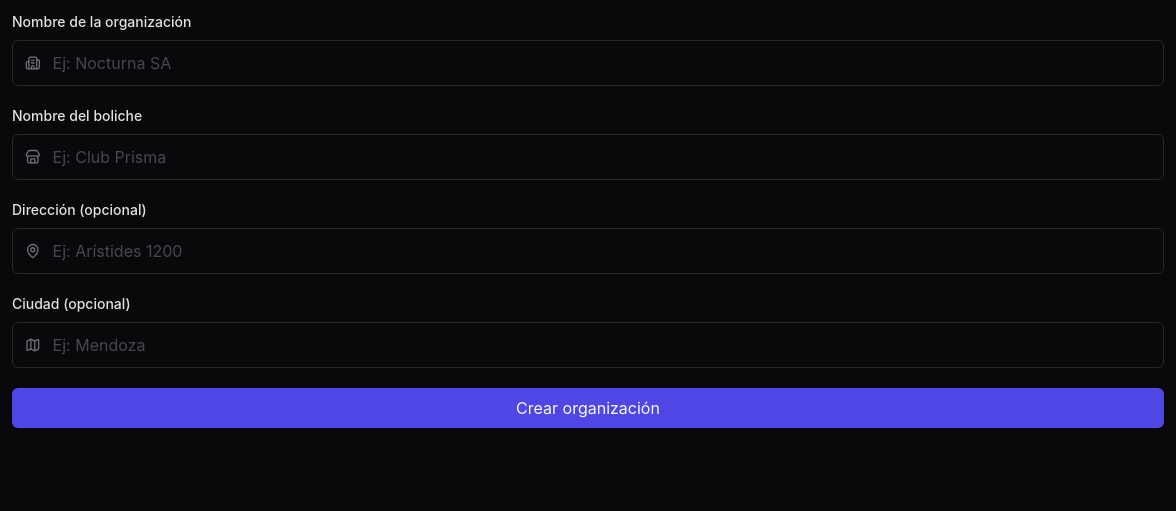
Test: OwnerOnboardingForm › shows the backend error message
Type "Nocturna SA" into the field with placeholder "Ej: Nocturna SA". click: (602, 63)
box: [53,51,1151,75]
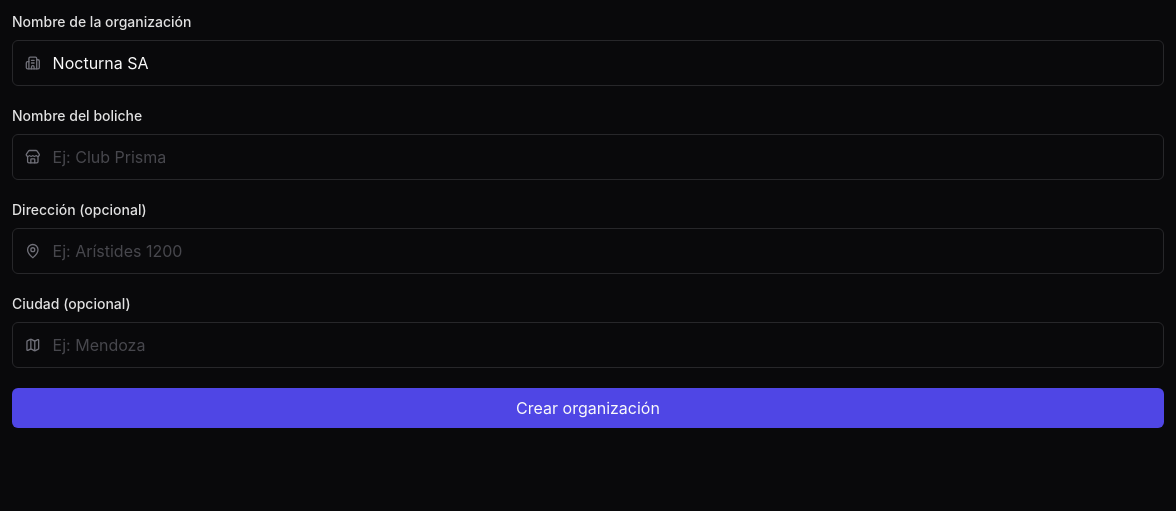
Type "Club Prisma" into the field with placeholder "Ej: Club Prisma". click: (602, 157)
box: [53,145,1151,169]
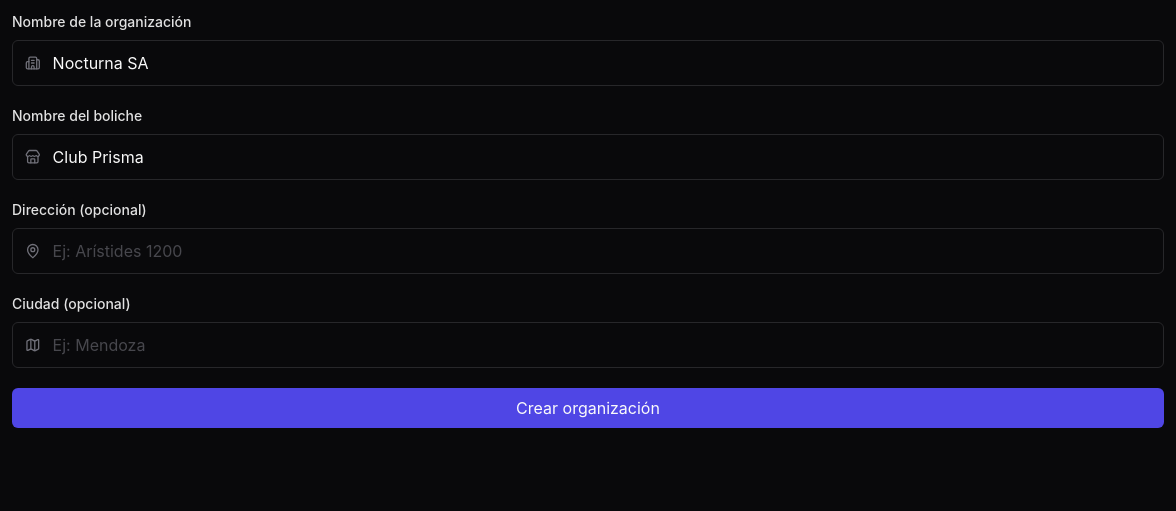
Click the button "Crear organización". click: (588, 408)
box: [12,388,1164,428]
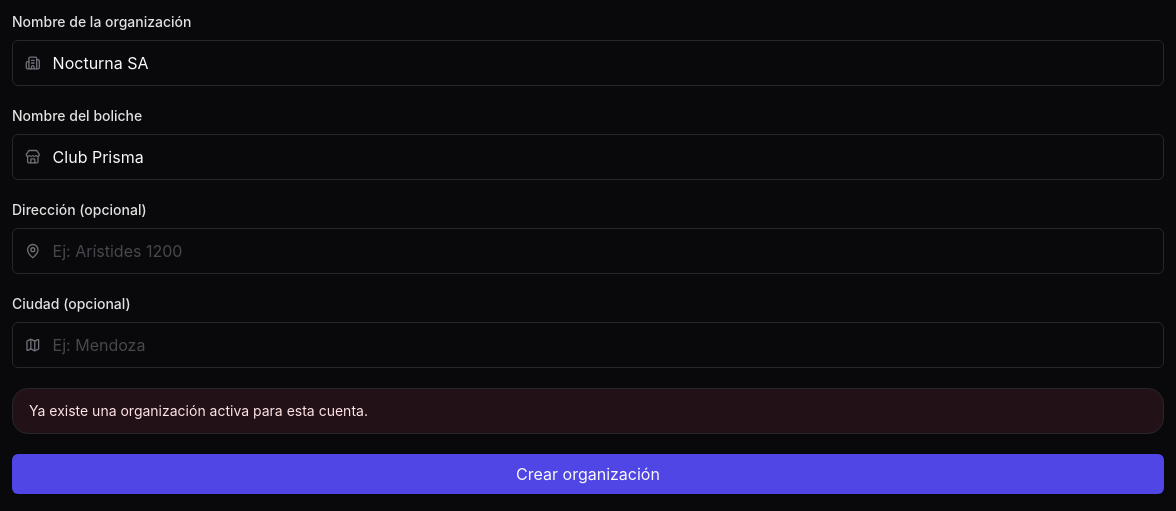
Result: the text "Ya existe una organización activa para esta cuenta." is shown at [12,388,1164,434]
